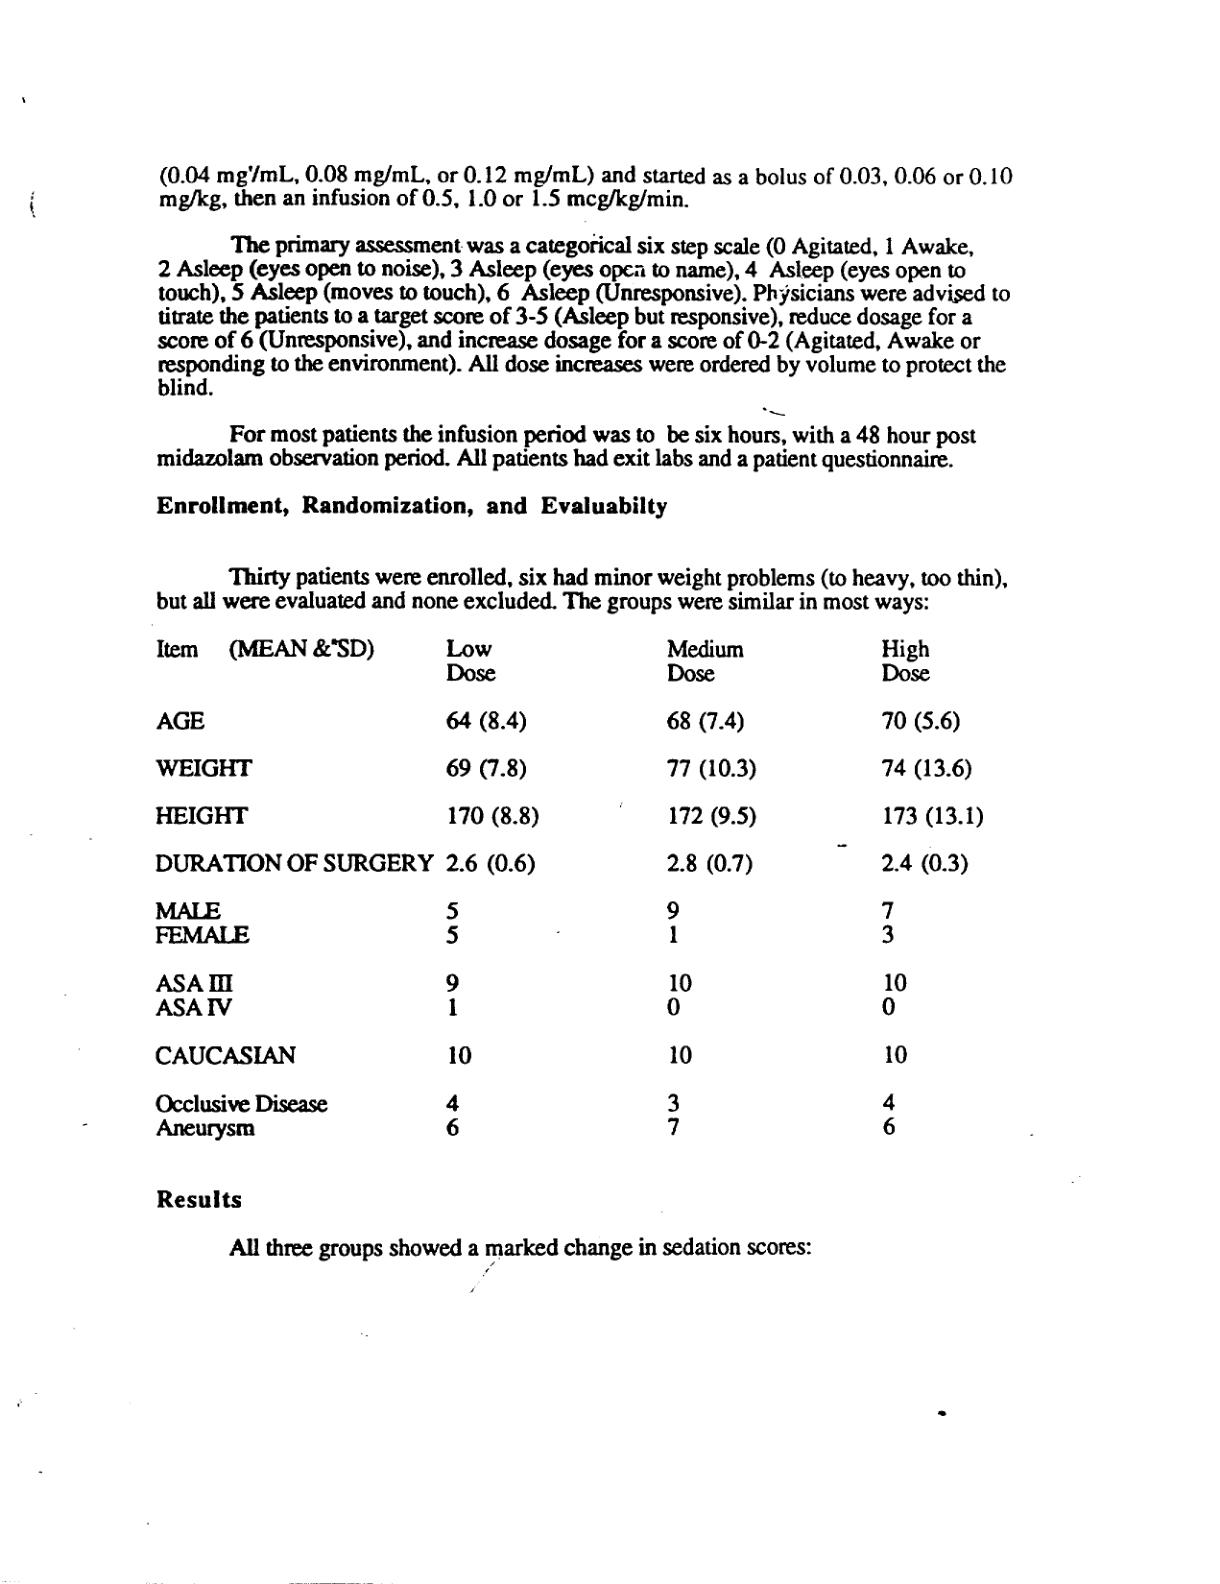nolines: (149, 631, 985, 1142)
